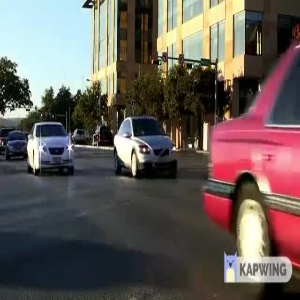car: (106, 114, 190, 181), (25, 118, 78, 175), (5, 128, 34, 162)
